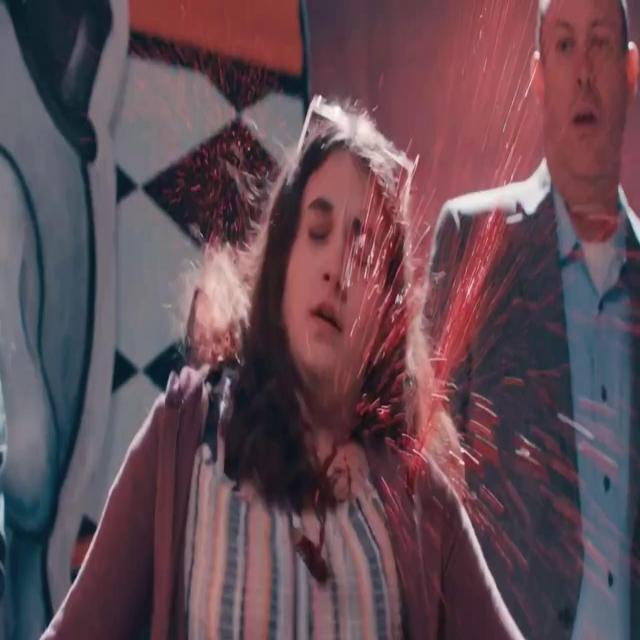flood: (353, 247, 502, 503)
